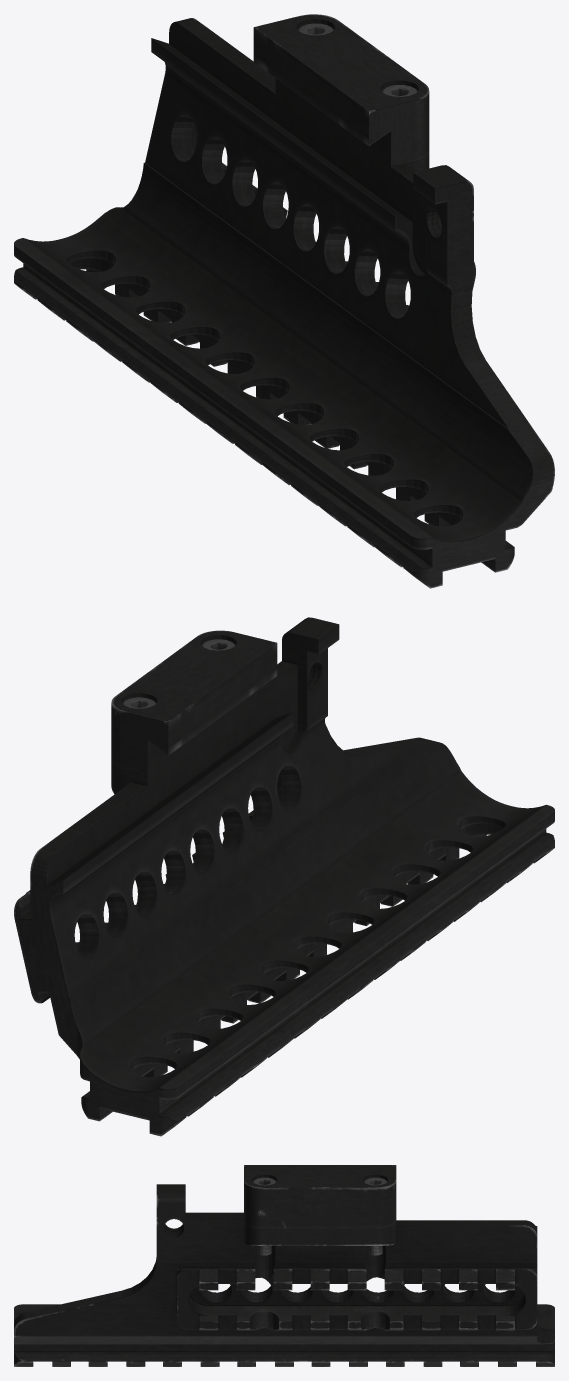
3 renders of one model, top to bottom at view 1: azimuth 30°, elevation 25°; view 2: azimuth 150°, elevation 25°; view 3: azimuth 270°, elevation 25°, orthographic. The views are drawn at different scales.
Parts seen in each view (by area): view 1: TW_67069c8cee8138ed2f05ad34_PZ_Import; view 2: TW_67069c8cee8138ed2f05ad34_PZ_Import; view 3: TW_67069c8cee8138ed2f05ad34_PZ_Import.
Part boxes in pixels (<box>): TW_67069c8cee8138ed2f05ad34_PZ_Import: <box>14,14,554,588</box>; TW_67069c8cee8138ed2f05ad34_PZ_Import: <box>14,617,554,1136</box>; TW_67069c8cee8138ed2f05ad34_PZ_Import: <box>14,1165,554,1366</box>.
Size of the model in its own units: 0.0235 by 0.0851 by 0.037.
Materials: 1 (1 with a texture image).
